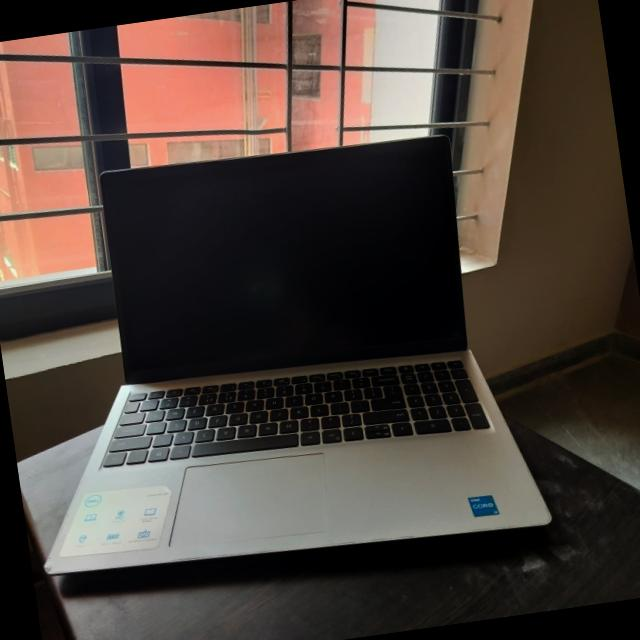laptop: (0, 84, 592, 624)
